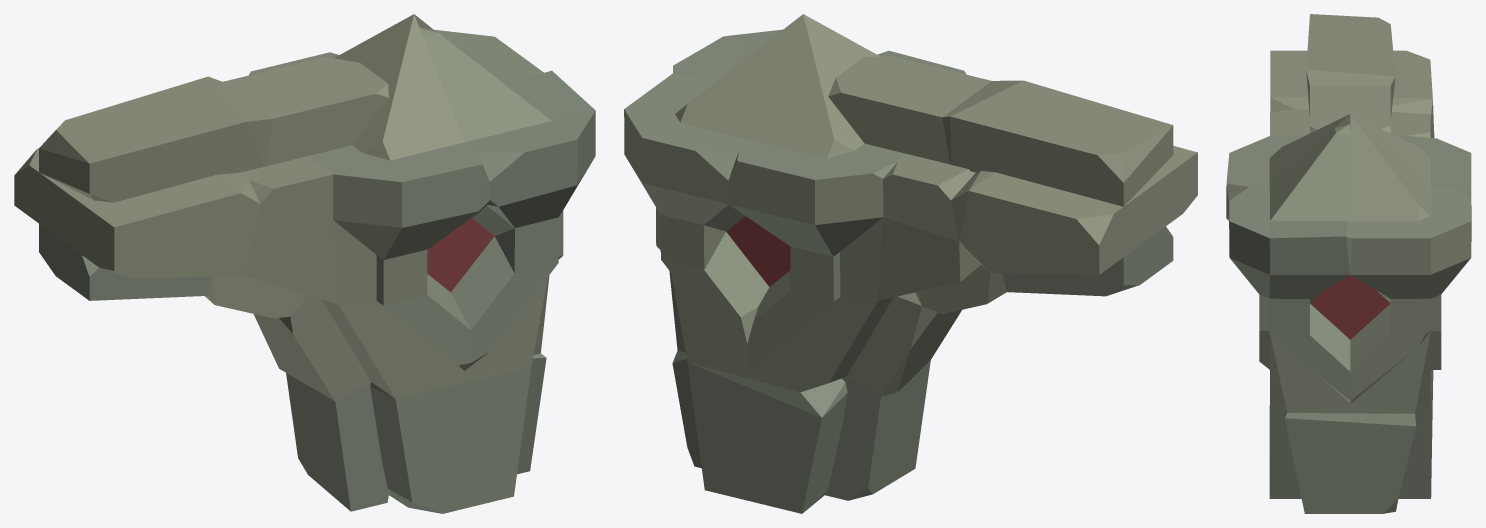
The model's file is arch_half.fbx.
The picture shows the model from 3 angles, left to right: view 1: azimuth 30°, elevation 25°; view 2: azimuth 150°, elevation 25°; view 3: azimuth 270°, elevation 25°; orthographic projection. The views are drawn at different scales.
Parts seen in each view (by area): view 1: arch_half; view 2: arch_half; view 3: arch_half.
Part boxes in pixels (left/top/right/bottom): arch_half: left=14, top=14, right=595, bottom=513; arch_half: left=624, top=14, right=1197, bottom=513; arch_half: left=1226, top=14, right=1471, bottom=513.
Size of the model in its own units: 277 by 250 by 152.
